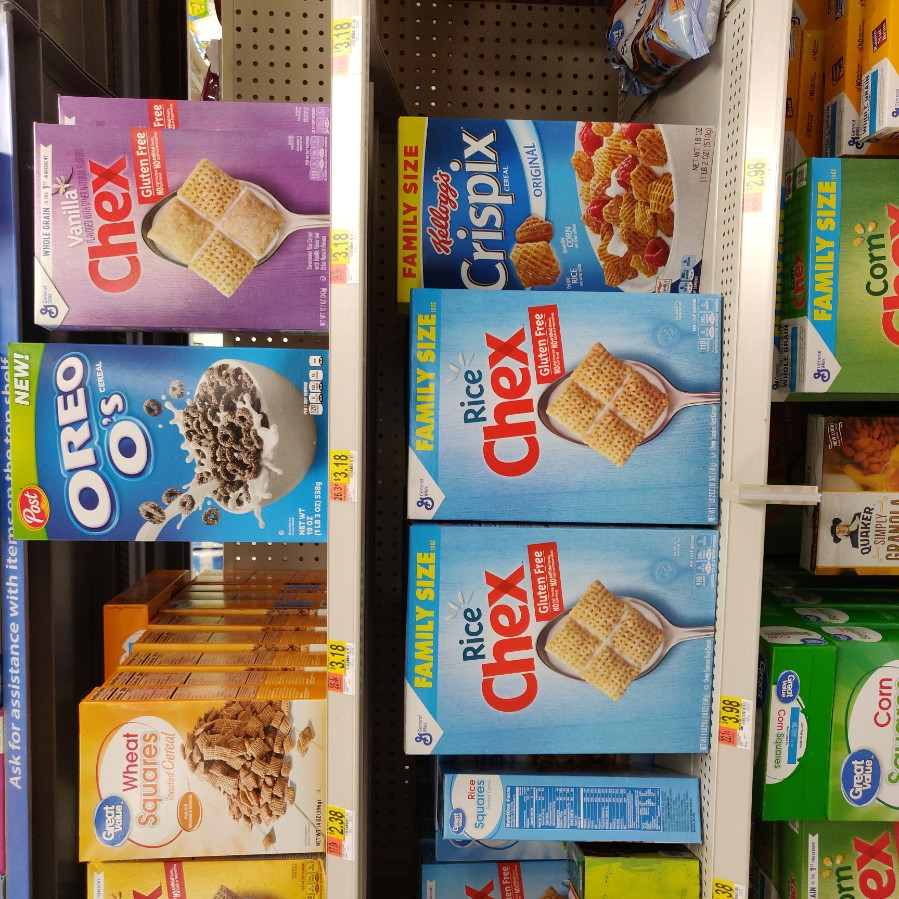Oreo-563424384: (11, 344, 331, 544)
